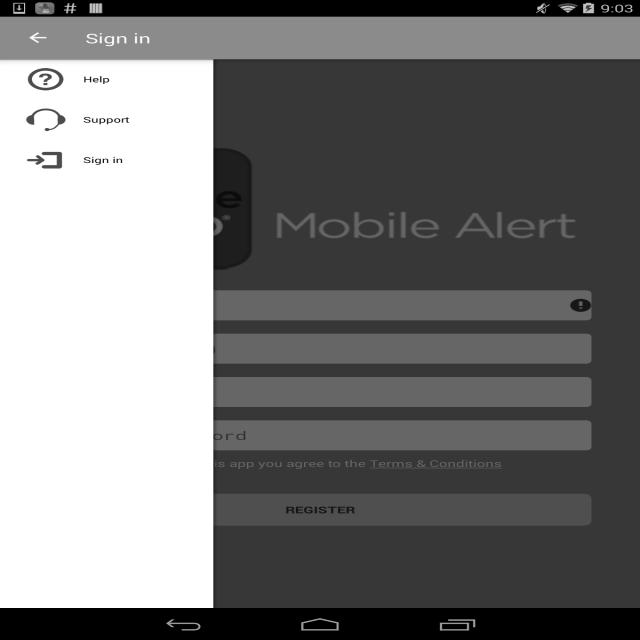Button: (49, 494, 592, 526)
EditText: (49, 290, 592, 320), (49, 334, 592, 364), (49, 377, 592, 407), (49, 420, 592, 450)
ImageButton: (9, 17, 68, 59)
ImageView: (49, 142, 592, 277), (8, 66, 72, 93), (8, 106, 72, 133), (8, 147, 72, 173)
TextView: (49, 457, 592, 470), (85, 29, 151, 47), (72, 154, 132, 166), (73, 114, 138, 125), (73, 74, 119, 85)
